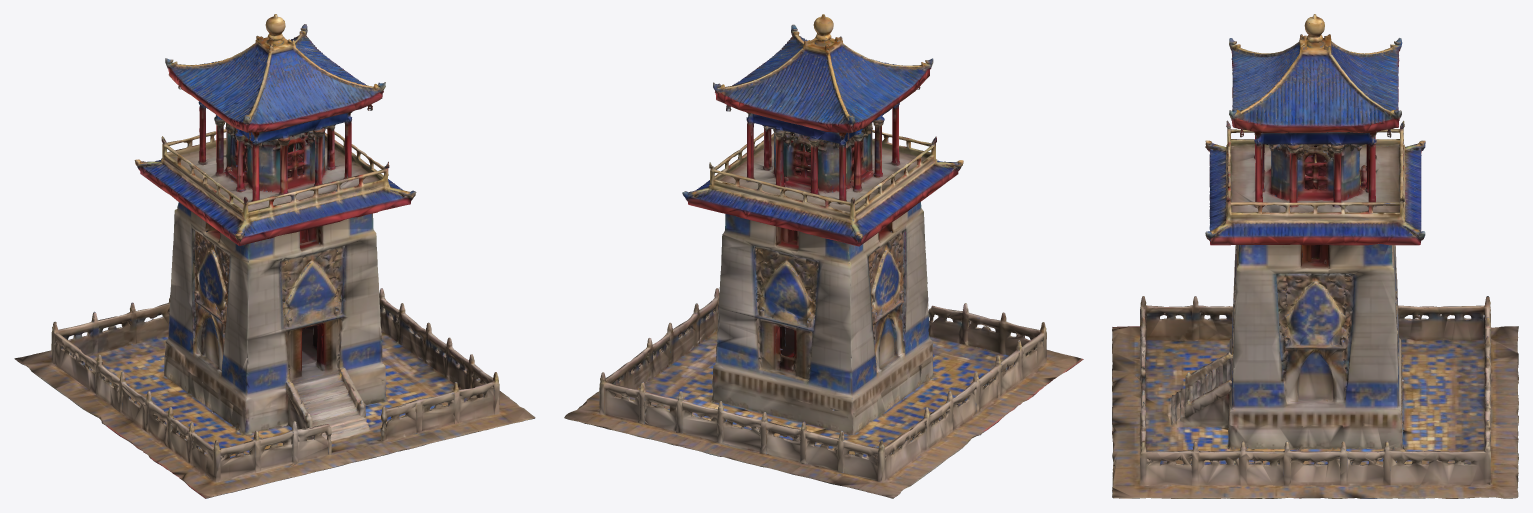
File: bq_sword_tower.hd.glb
3 views of the same model, side by side, from view 1: azimuth 30°, elevation 25°; view 2: azimuth 150°, elevation 25°; view 3: azimuth 270°, elevation 25° (orthographic). The views are drawn at different scales.
Bounding box in the file's own units: 1.74 × 1.88 × 1.73.
Materials: 1 (1 with a texture image).
